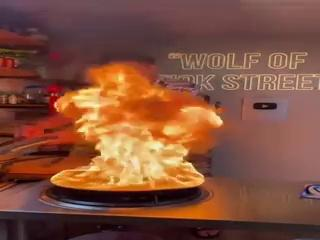Fire: (59, 54, 225, 189)
